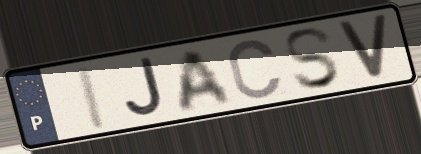A: (177, 45, 236, 115)
C: (226, 37, 285, 101)
I: (73, 62, 111, 133)
J: (122, 55, 168, 120)
S: (281, 25, 345, 92)
V: (333, 12, 391, 81)
